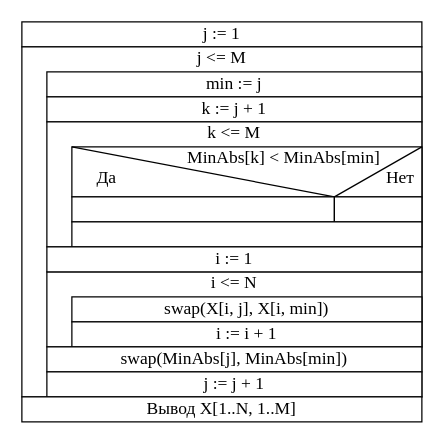
Image size: 448x444. Some labels were removed from this diagram. The shapes that lost their labels are listed below. From the top down, each one's centre as x and y in pixels, then its label:
At pixel 202 209: "min := k".
At pixel 246 234: "k := k + 1".
